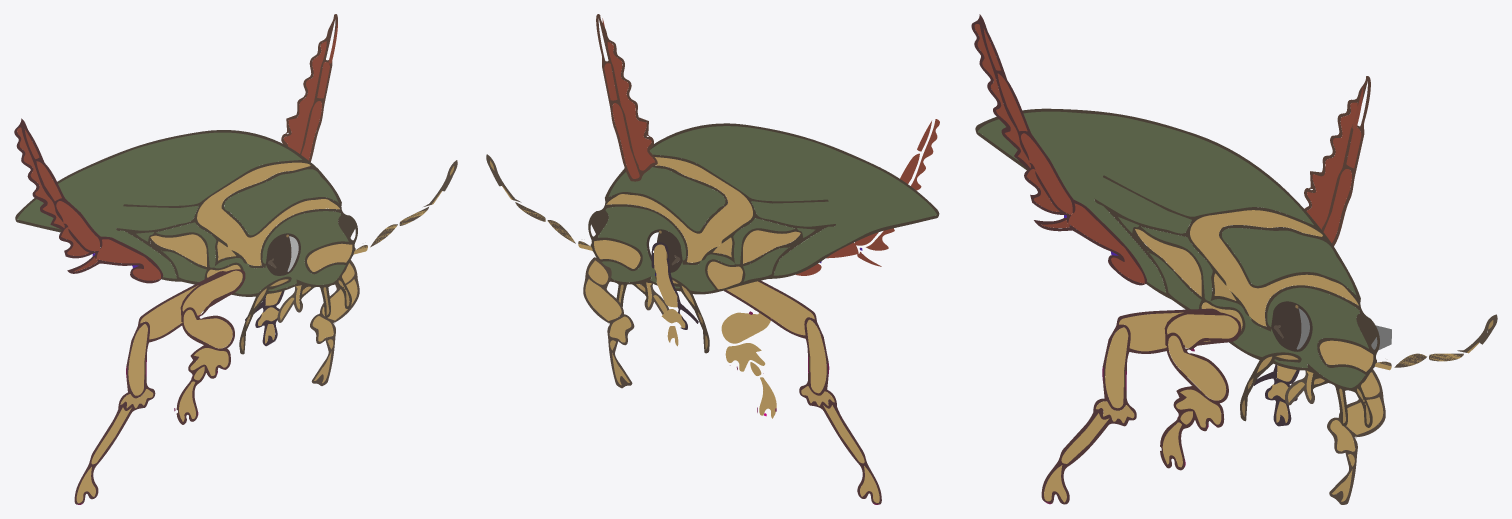
File: BeetleBody.glb
The picture shows the model from 3 angles, left to right: view 1: azimuth 30°, elevation 25°; view 2: azimuth 150°, elevation 25°; view 3: azimuth 330°, elevation 25°; orthographic projection. The views are drawn at different scales.
Visible parts, largest first — view 1: Body, beetlewingleft, beetlefrontleg, beetlebackleg, beetlewingright, beetlelegright, leg; view 2: Body, beetlebackleg, beetlewingright, beetlelegright, beetlefrontleg, beetlewingleft, leg; view 3: Body, beetlewingleft, beetlefrontleg, beetlebackleg, beetlewingright, beetlelegright, leg.
Part boxes in pixels (x1,y1,x2,y2): Body: (15,130,457,354); beetlewingleft: (14,118,163,283); beetlefrontleg: (174,269,245,424); beetlebackleg: (74,271,241,504); beetlewingright: (281,14,337,161); beetlelegright: (310,260,359,385); leg: (245,290,284,346); Body: (486,123,939,353); beetlebackleg: (724,280,881,504); beetlewingright: (596,14,657,181); beetlelegright: (583,257,634,388); beetlefrontleg: (721,309,776,418); beetlewingleft: (796,119,939,275); leg: (651,242,698,346); Body: (975,108,1497,427); beetlewingleft: (971,14,1146,285); beetlefrontleg: (1160,310,1241,470); beetlebackleg: (1041,308,1238,504); beetlewingright: (1304,76,1370,245); beetlelegright: (1327,369,1385,504); leg: (1253,364,1299,426).
Bounding box in the file's own units: 1.12 × 1.02 × 0.0473.
